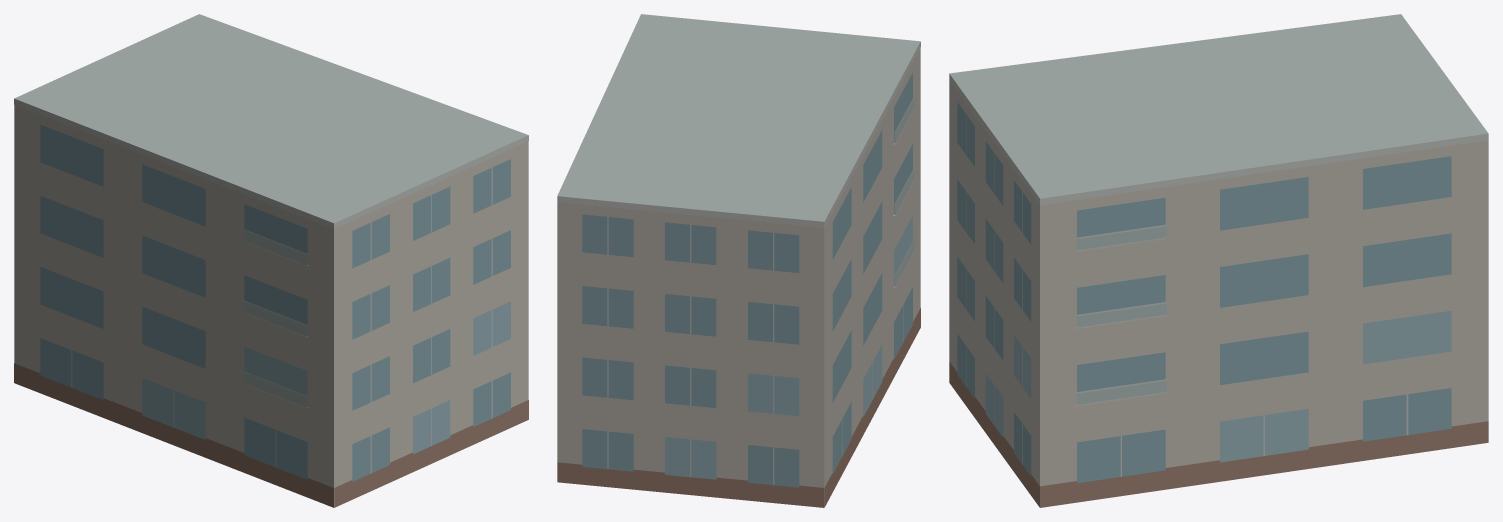
Rendered from survey-upis-32620988.glb.
3 views of the same model, side by side, from view 1: azimuth 30°, elevation 25°; view 2: azimuth 150°, elevation 25°; view 3: azimuth 270°, elevation 25° (orthographic). The views are drawn at different scales.
Visible parts, largest first — view 1: survey-upis-32620988.tmp; view 2: survey-upis-32620988.tmp; view 3: survey-upis-32620988.tmp.
Part boxes in pixels (x1,y1,x2,y2): survey-upis-32620988.tmp: [14, 14, 528, 507]; survey-upis-32620988.tmp: [557, 14, 920, 507]; survey-upis-32620988.tmp: [949, 14, 1488, 507].
Size of the model in its own units: 14.88 by 11.6 by 18.35.
